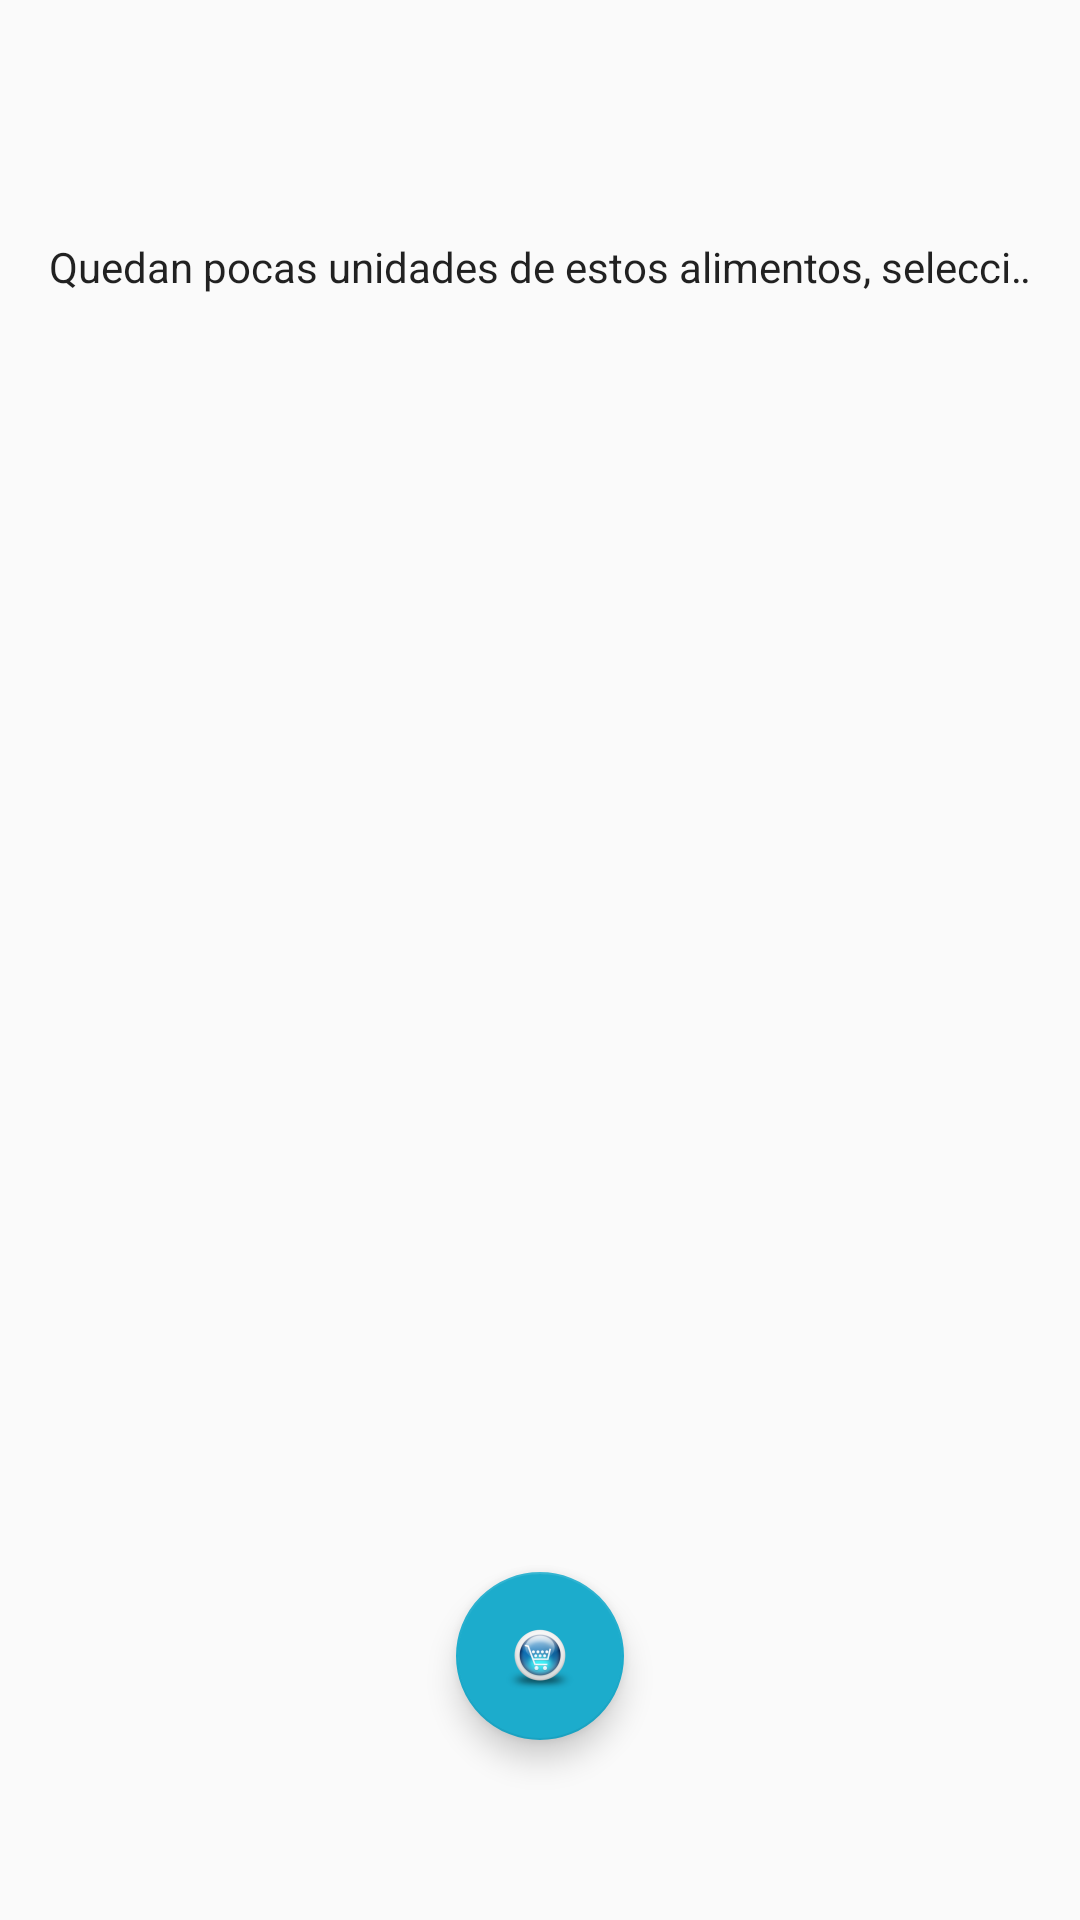

Icons on this 1080×1920 Android screen, each with the point to tap as [x,y]:
fab: [540,1656]
